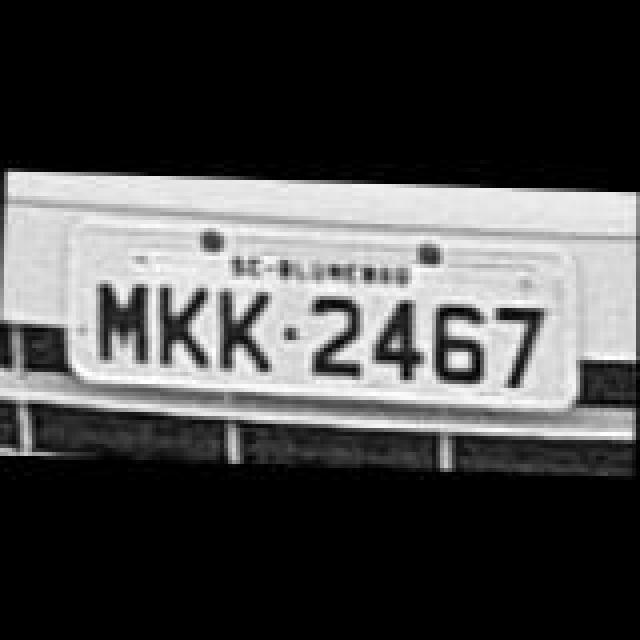2: (304, 292, 364, 372)
4: (376, 294, 428, 374)
6: (432, 302, 492, 382)
7: (492, 302, 552, 386)
K: (216, 284, 276, 368), (156, 282, 216, 366)
M: (94, 276, 150, 360)
